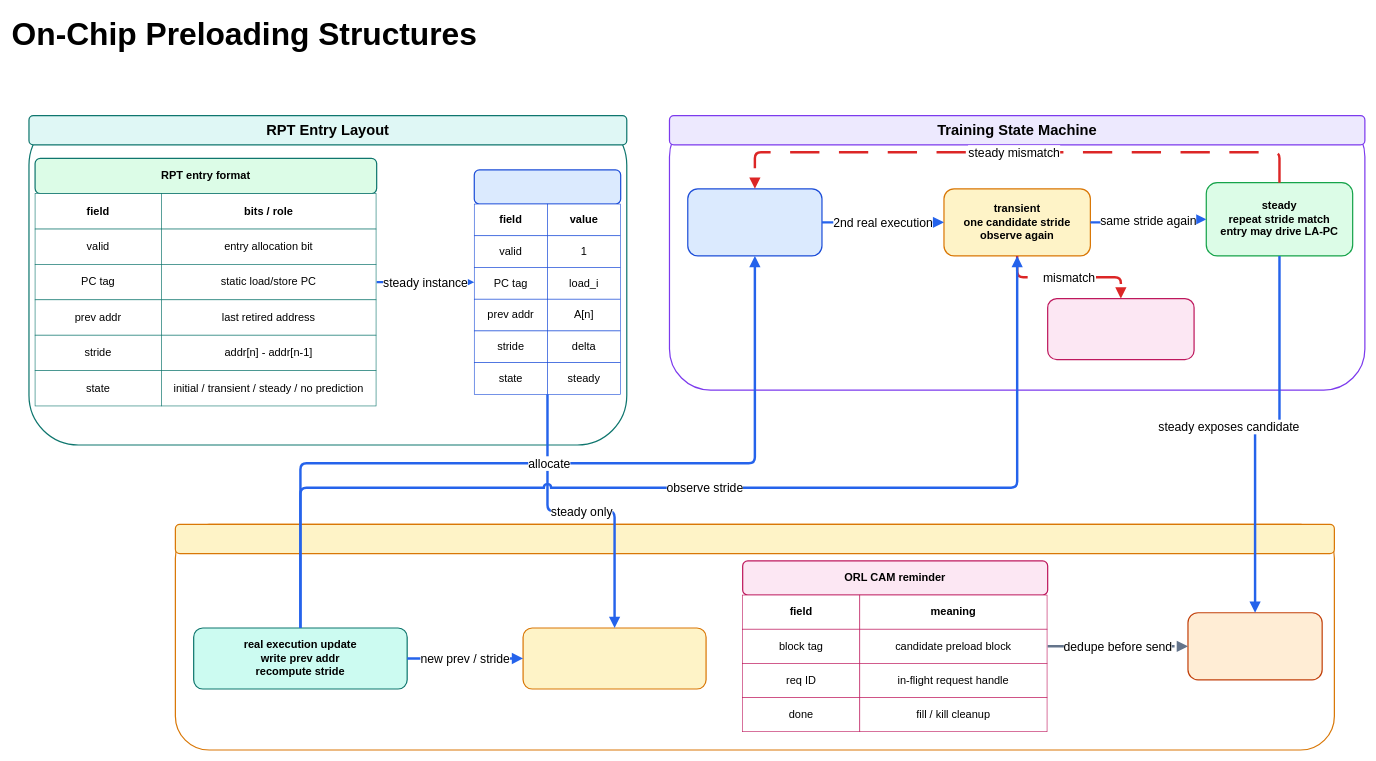
This 1376x761 diagram has some shape labels left out. The centre of each missing label's shape, as x and y in pixels:
"candidate block prev addr + stride" belongs at point 614,658.
"initial first real address no action yet" belongs at point 754,222.
"issue enable steady distance < d" belongs at point 1254,646.
"Issue-Time Derivations" belongs at point 754,538.
"no prediction irregular pattern" belongs at point 1120,329.
"steady entry sample" belongs at point 547,186.
